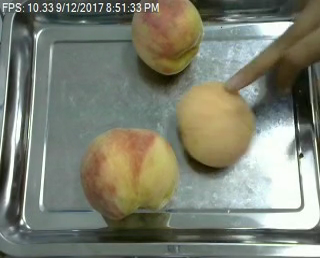Peach: (80, 126, 178, 220), (176, 81, 253, 168), (131, 0, 203, 74)
